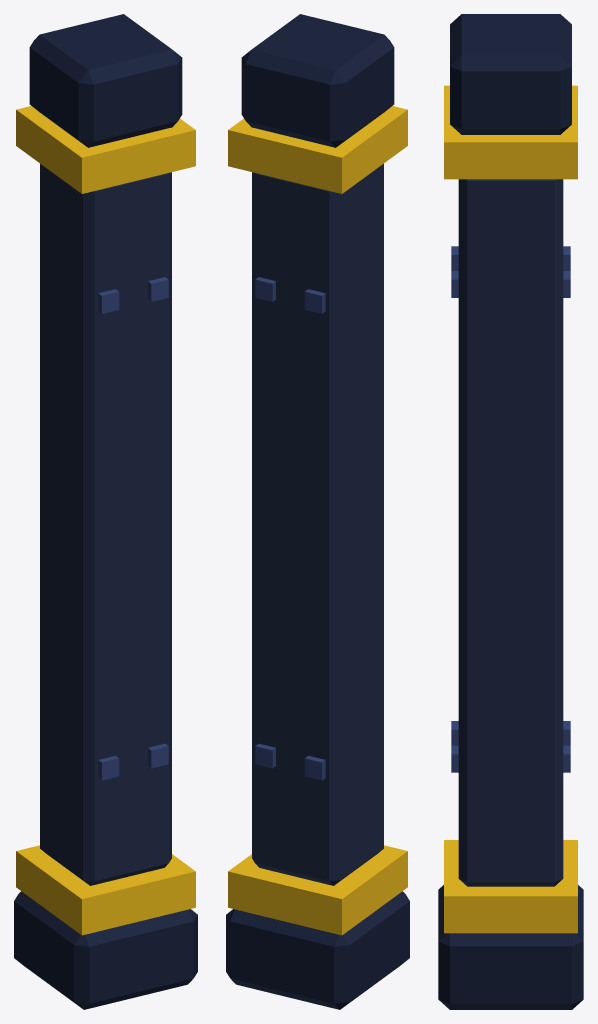
The model's file is gate_pillar.glb.
3 views of the same model, side by side, from view 1: azimuth 30°, elevation 25°; view 2: azimuth 150°, elevation 25°; view 3: azimuth 270°, elevation 25° (orthographic).
Visible parts, largest first — view 1: gate_pillar; view 2: gate_pillar; view 3: gate_pillar.
Part boxes in pixels (x1,y1,x2,y2): gate_pillar: [14, 14, 197, 1009]; gate_pillar: [226, 14, 409, 1009]; gate_pillar: [438, 14, 583, 1009].
Size of the model in its own units: 0.5 by 3.6 by 0.5.
Materials: 1 (1 with a texture image).
